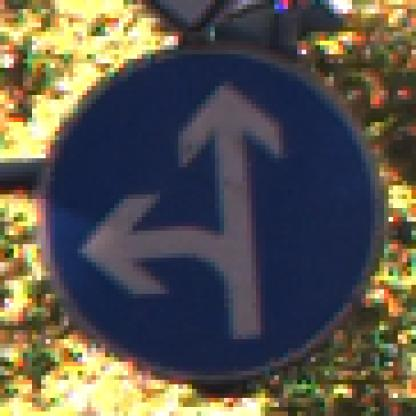Straight or Left: (38, 42, 381, 381)
